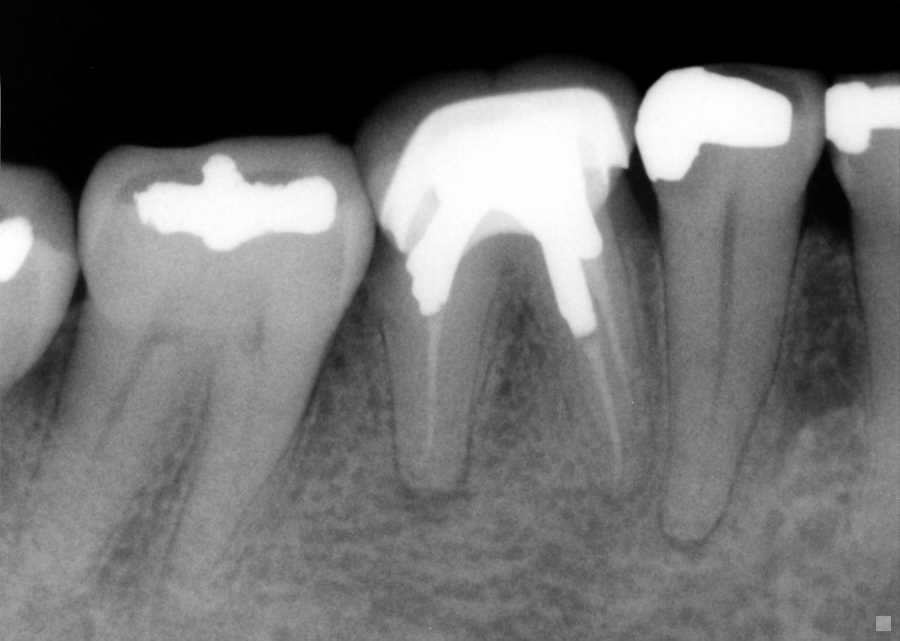Apical Lesion: (398, 480, 471, 520), (657, 514, 717, 557)
Distal Canal: (78, 362, 144, 514)
Distal Root: (13, 335, 186, 607), (379, 296, 492, 494)
Main Root: (663, 224, 803, 541), (851, 249, 900, 553), (698, 229, 737, 502)
Mesial Canal: (229, 354, 263, 495)
Mesial Root: (166, 352, 315, 582), (534, 258, 655, 497)
Root Canal Filling: (581, 334, 623, 495), (588, 262, 631, 386), (418, 313, 444, 477)
decay: (373, 229, 412, 303)
